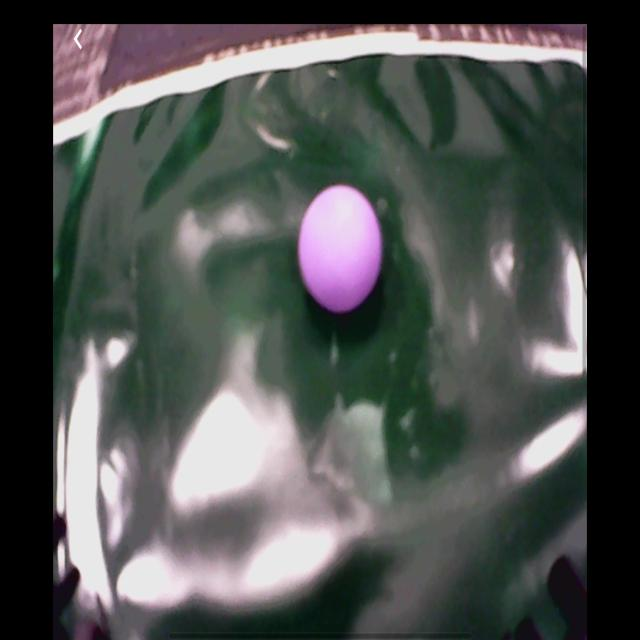ball: (298, 184, 384, 310)
